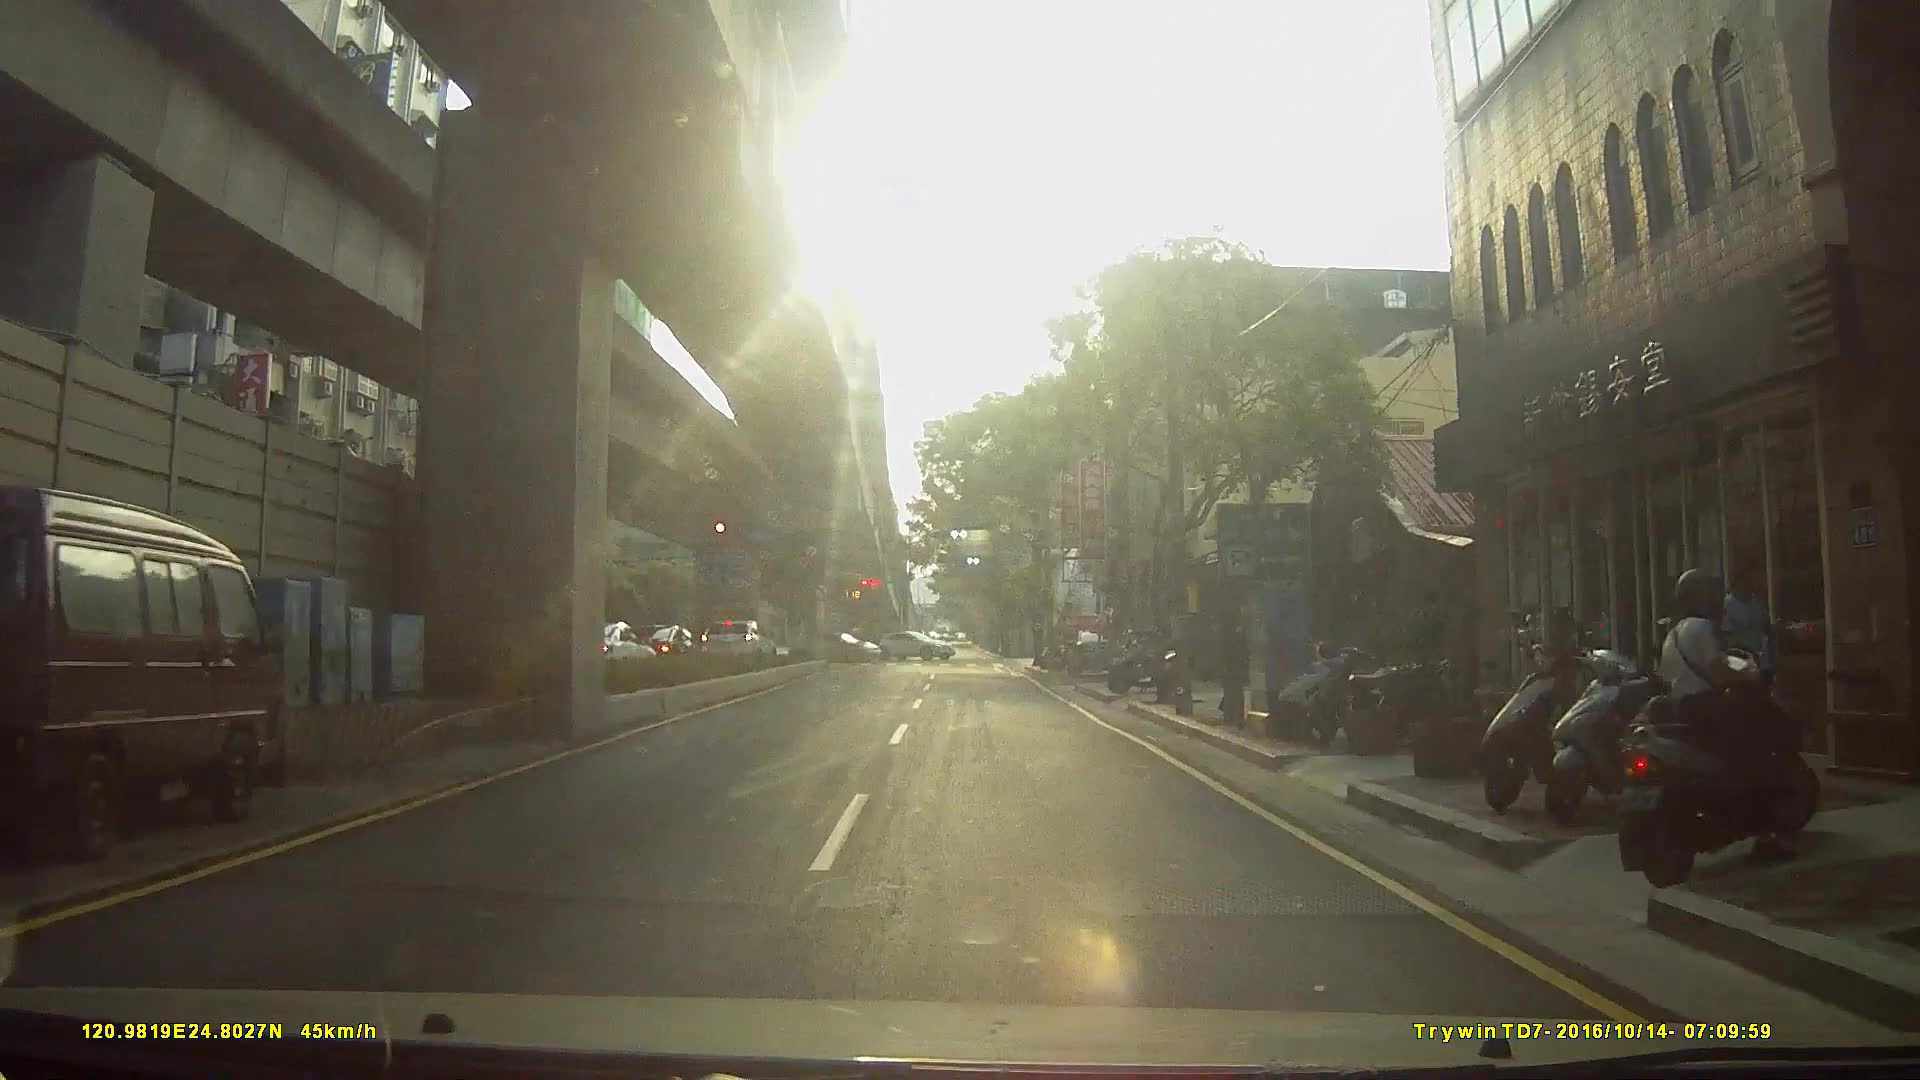pedestrian: (1708, 556, 1780, 775)
rider: (1615, 574, 1838, 872)
vehicle: (1, 479, 316, 871), (698, 618, 776, 664), (787, 628, 884, 665), (1064, 625, 1119, 675), (875, 629, 957, 660)
